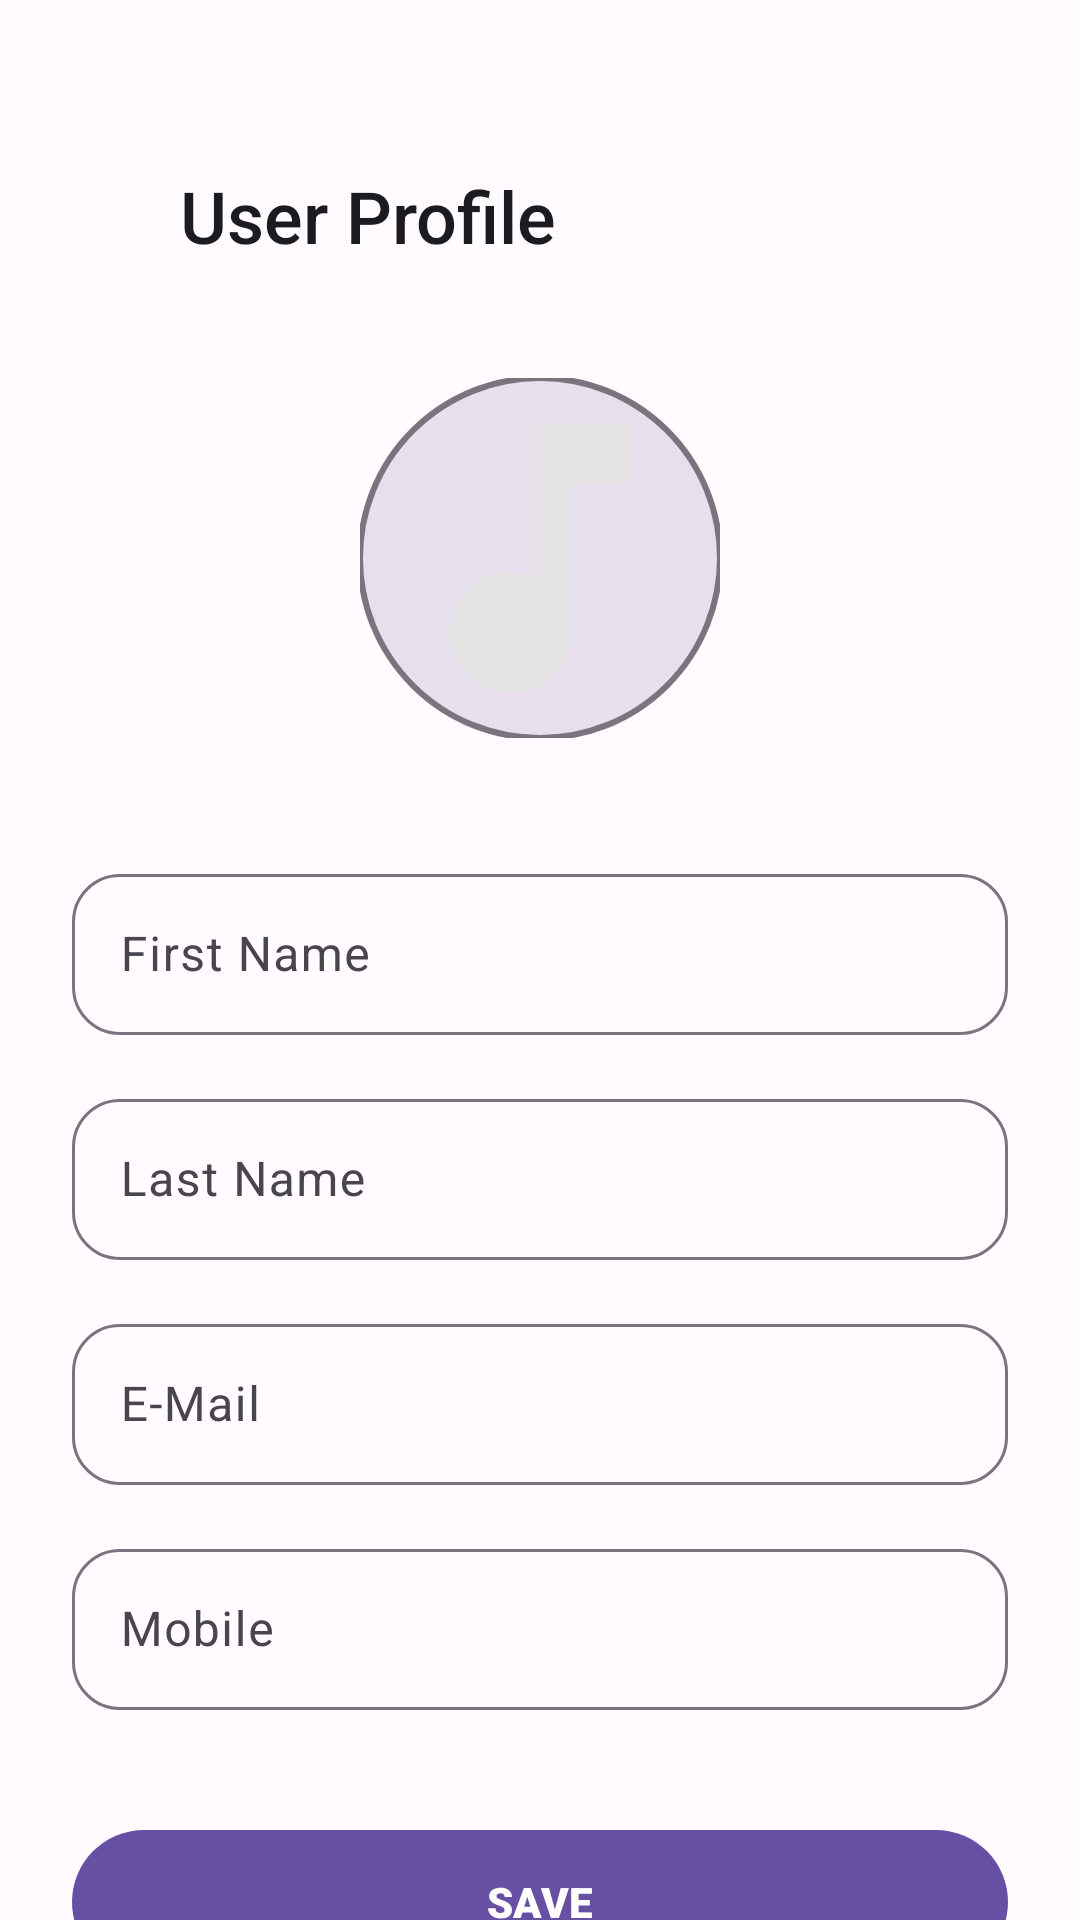

Locate icon controls on the screen. Image size 1080w x 1920h, boxes as (x1, y1, x2, y2).
music note: (360, 378, 720, 738)
